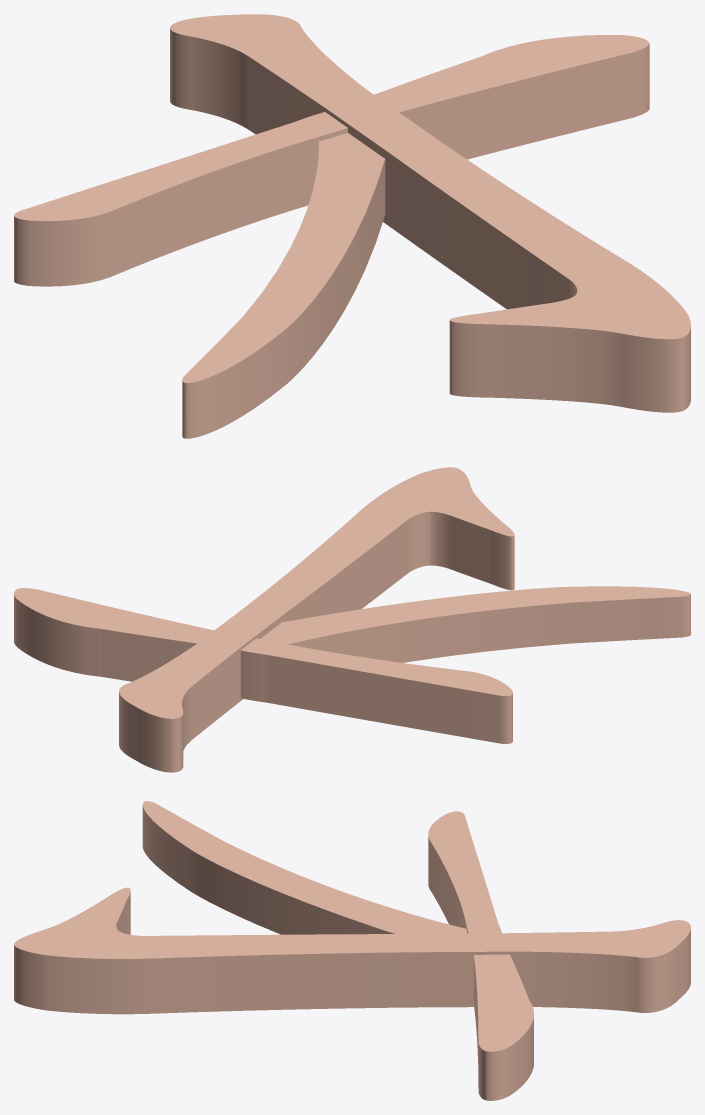
File: hanzi146.fbx
3 renders of one model, top to bottom at view 1: azimuth 30°, elevation 25°; view 2: azimuth 150°, elevation 25°; view 3: azimuth 270°, elevation 25°, orthographic. The views are drawn at different scales.
Parts seen in each view (by area): view 1: Curve.001, Curve, Curve.002; view 2: Curve.001, Curve, Curve.002; view 3: Curve.001, Curve.002, Curve.
Part boxes in pixels (x1,y1,x2,y2): Curve.001: (170,14,690,412); Curve: (14,35,649,286); Curve.002: (182,133,385,438); Curve.001: (119,467,514,772); Curve: (14,588,512,743); Curve.002: (260,586,690,662); Curve.001: (14,887,690,1014); Curve.002: (142,801,467,934); Curve: (428,811,533,1100).
Size of the model in its own units: 21.12 by 23.77 by 2.14.
